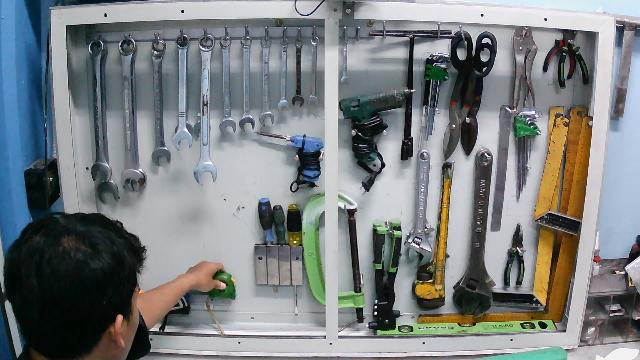meteran: (187, 257, 239, 335)
